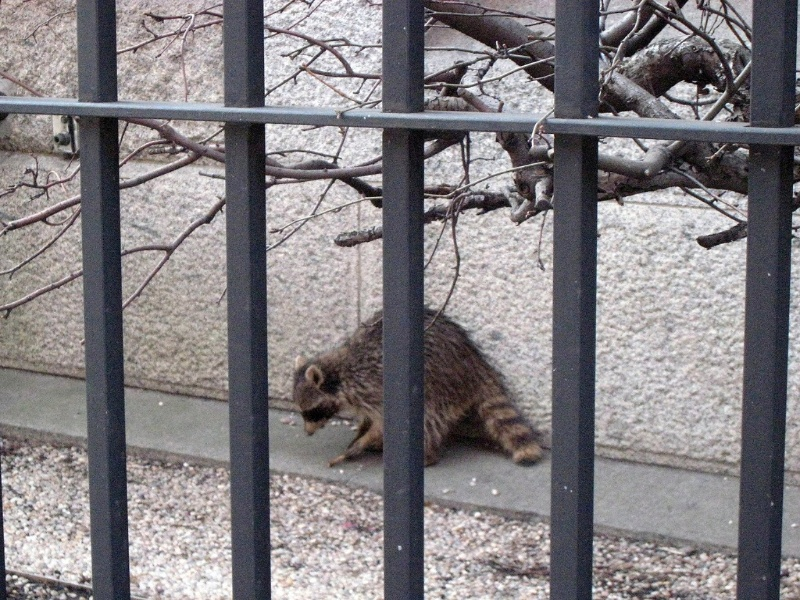raccoon: (288, 300, 548, 474)
